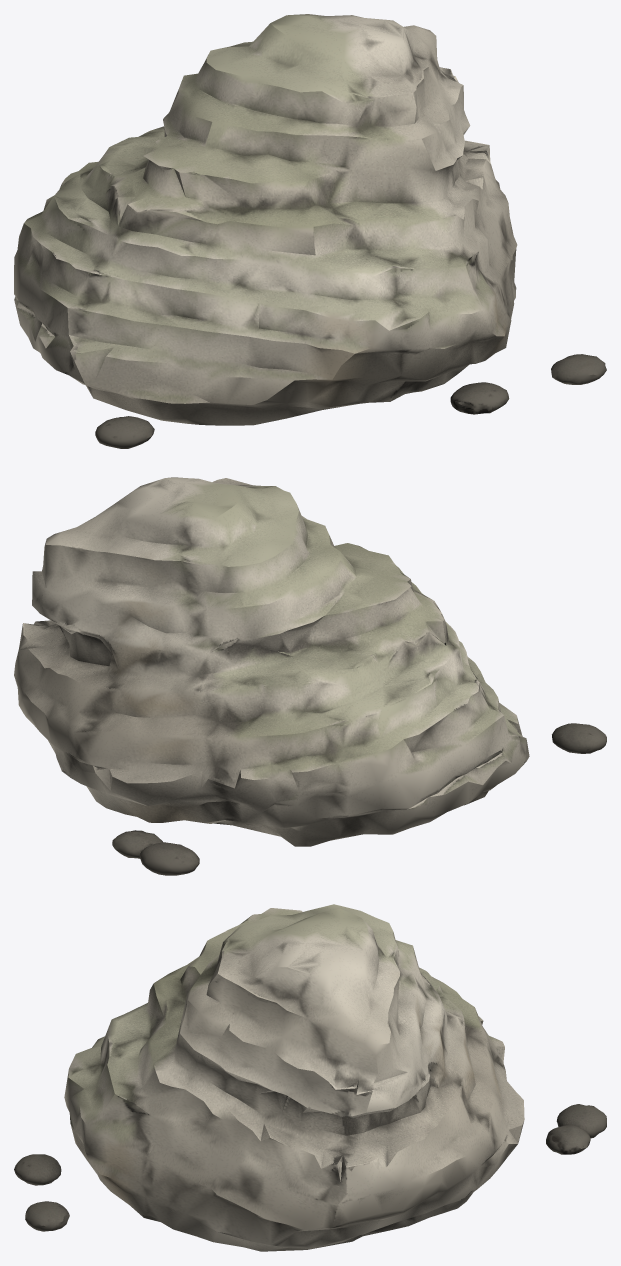
File: costa_rocha_a.glb
3 views of the same model, one above another, from view 1: azimuth 30°, elevation 25°; view 2: azimuth 150°, elevation 25°; view 3: azimuth 270°, elevation 25° (orthographic). The views are drawn at different scales.
Visible parts, largest first — view 1: costa_rocha_a; view 2: costa_rocha_a; view 3: costa_rocha_a.
Part boxes in pixels (x1,y1,x2,y2): costa_rocha_a: (14, 14, 606, 448); costa_rocha_a: (14, 477, 606, 875); costa_rocha_a: (14, 904, 606, 1251).
Bounding box in the file's own units: 1.99 × 1.06 × 2.17.
Materials: 1 (1 with a texture image).
